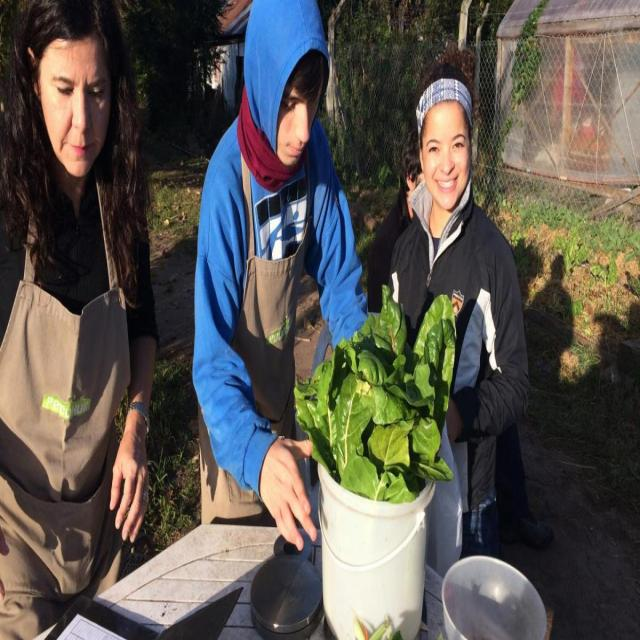body: (0, 0, 165, 639), (190, 0, 372, 553), (380, 40, 523, 575), (509, 232, 581, 391), (364, 132, 426, 314)
